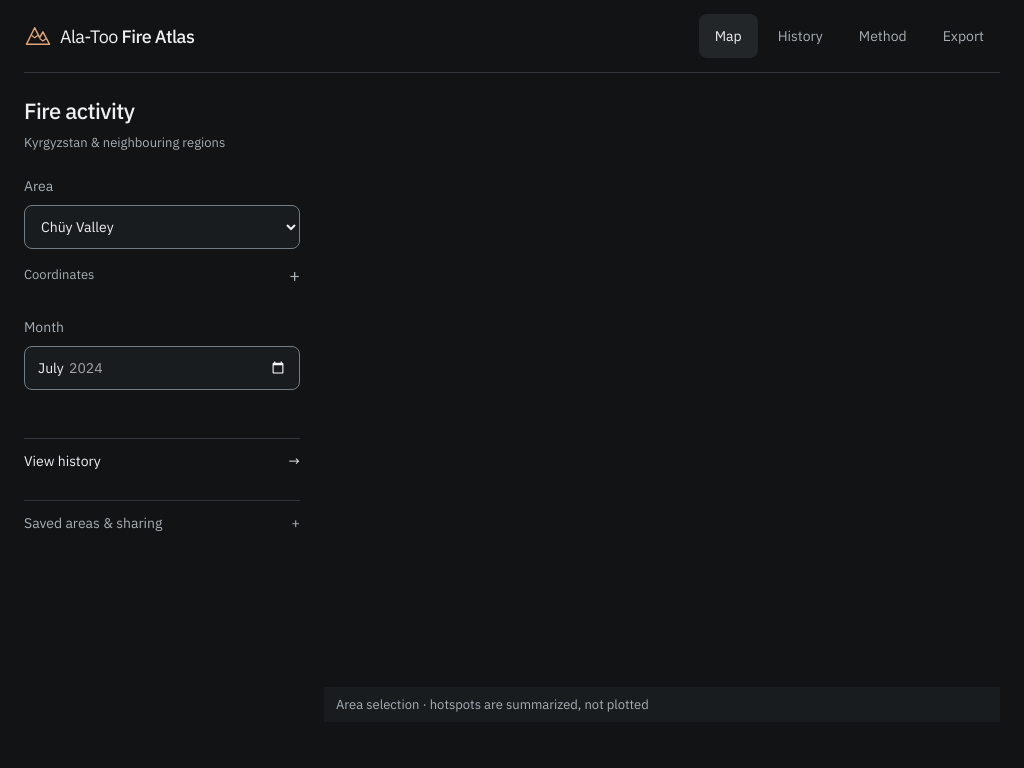
Test: retains the chosen area and month across views
The width and height of the screenshot is (1024, 768).
Click the link with id "export": (963, 36) [943, 26, 984, 44]
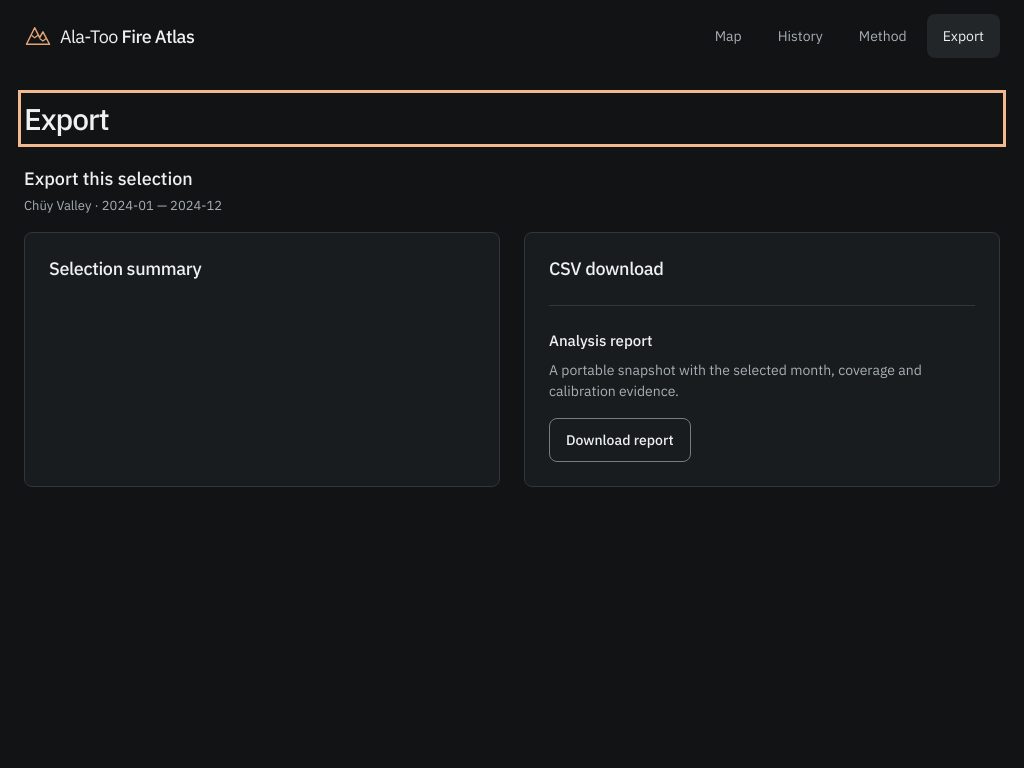
Click the link with id "explore": (728, 36) [715, 26, 742, 44]
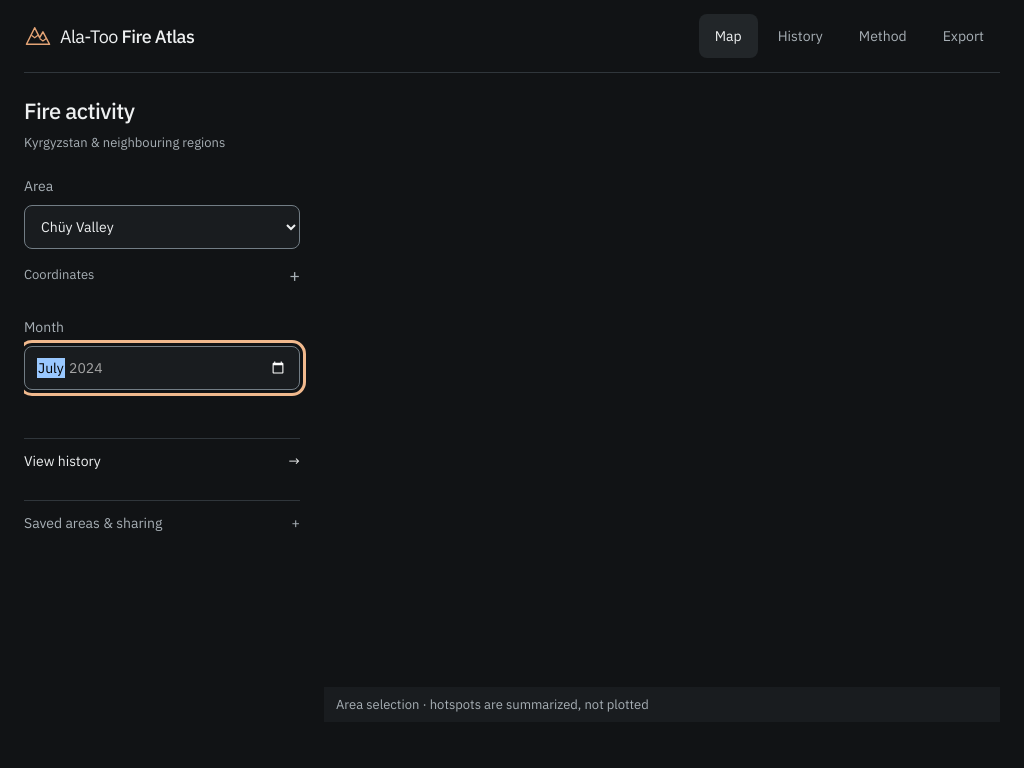
Result: the dropdown labelled "Area" shows "Chüy Valley" at [24, 205, 300, 249]
Result: the field labelled "Month" holds "2024-07" at [24, 346, 300, 390]
